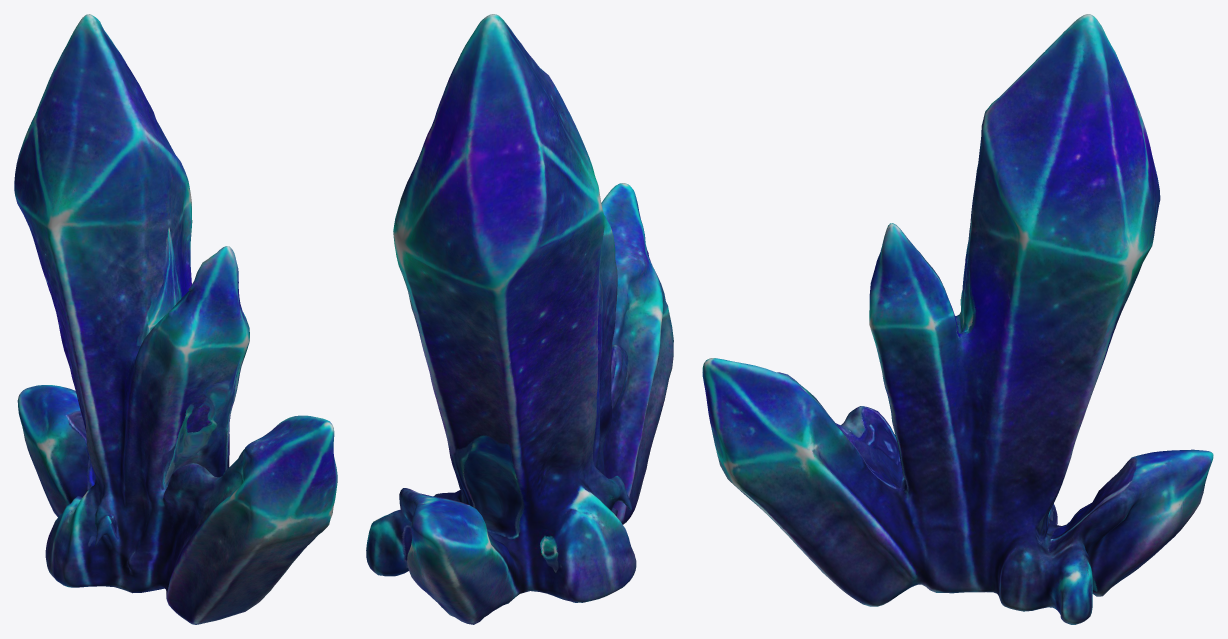
Rendered from 4ea3c9845cd3__glowing_sapphire_b.fbx.
3 views of the same model, side by side, from view 1: azimuth 30°, elevation 25°; view 2: azimuth 150°, elevation 25°; view 3: azimuth 270°, elevation 25° (orthographic). The views are drawn at different scales.
Parts seen in each view (by area): view 1: mesh; view 2: mesh; view 3: mesh.
Boxes of the visible parts, left/top/right/bottom form: mesh: left=14, top=14, right=337, bottom=624; mesh: left=366, top=14, right=673, bottom=624; mesh: left=702, top=14, right=1213, bottom=624.
Bounding box in the file's own units: 38.06 × 99.28 × 81.11.
